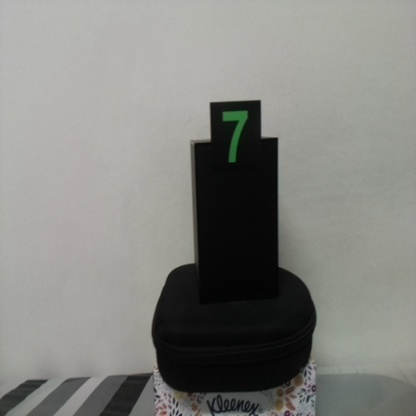id_7: (209, 102, 262, 181)
